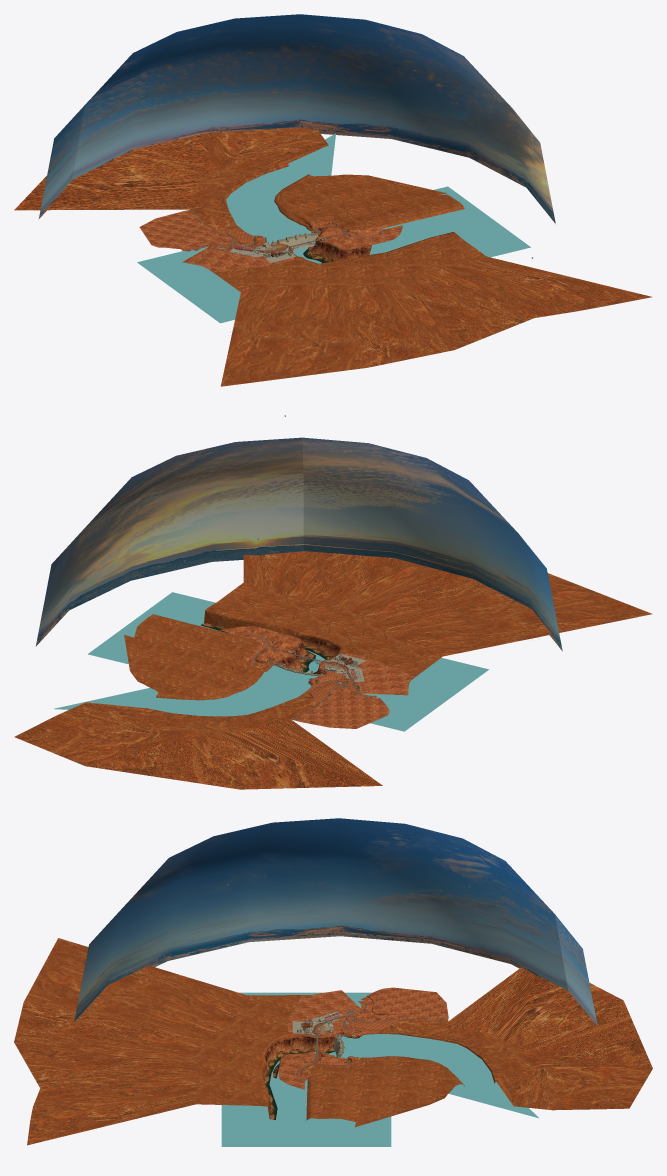
The model's file is gt_racing_2_-_glen_canyon_dam-cân bằng-compressed.glb.
3 views of the same model, one above another, from view 1: azimuth 30°, elevation 25°; view 2: azimuth 150°, elevation 25°; view 3: azimuth 270°, elevation 25° (orthographic).
Parts seen in each view (by area): view 1: ENV, Sky_Last_skybox, water2, ENV.002, water1, ENV.001, Track_2; view 2: ENV, Sky_Last_skybox, ENV.002, water2, water1, ENV.001; view 3: ENV, Sky_Last_skybox, water2, ENV.002, water1, ENV.001, Road_road.
Part boxes in pixels (<box>): ENV: <box>14,128,652,386</box>; Sky_Last_skybox: <box>38,14,555,223</box>; water2: <box>137,186,530,323</box>; ENV.002: <box>139,209,403,272</box>; water1: <box>226,133,335,242</box>; ENV.001: <box>262,235,372,263</box>; Track_2: <box>217,231,319,250</box>; ENV: <box>14,551,652,789</box>; Sky_Last_skybox: <box>35,437,562,650</box>; ENV.002: <box>220,626,415,728</box>; water2: <box>88,592,488,731</box>; water1: <box>54,665,317,716</box>; ENV.001: <box>201,622,338,681</box>; ENV: <box>14,938,652,1145</box>; Sky_Last_skybox: <box>74,818,597,1025</box>; water2: <box>221,992,391,1146</box>; ENV.002: <box>278,987,448,1089</box>; water1: <box>339,1034,538,1118</box>; ENV.001: <box>264,1033,359,1119</box>; Road_road: <box>297,1001,447,1080</box>.
Size of the model in its own units: 5022 by 2244 by 6013.
Materials: 18 (18 with a texture image).
